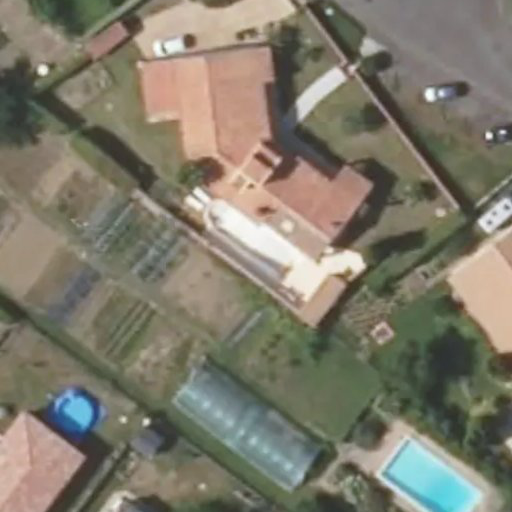pool: (209, 225, 303, 257)
